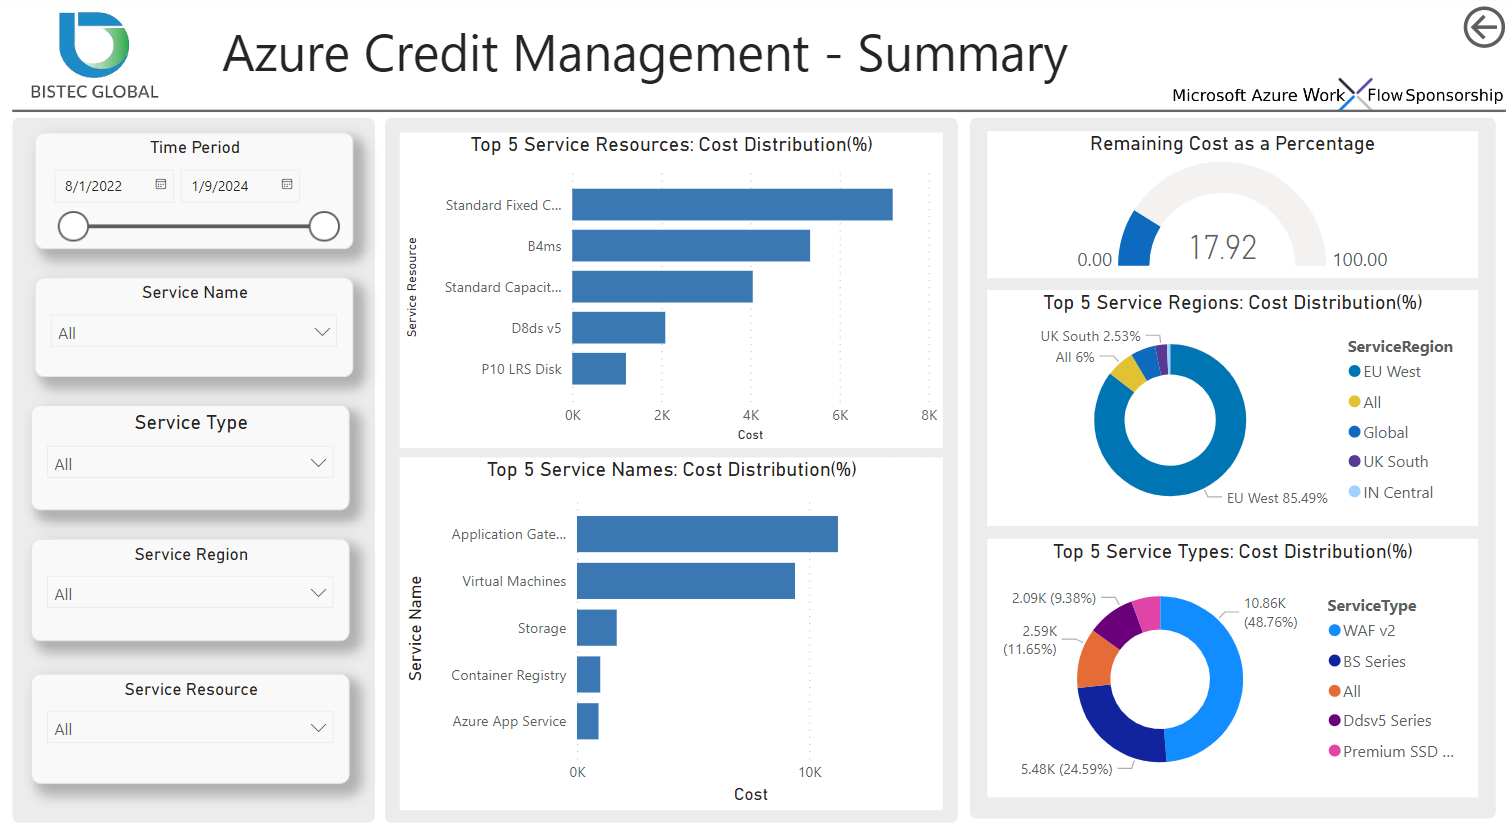

The dashboard page shown, as its layout file describes it:
{"tool":"powerbi","page":{"name":"Summary","canvas":[1280,720],"ordinal":1},"visuals":[{"type":"shape","box":[9.6,99.7,306.2,595.6],"z":0},{"type":"shape","box":[324.2,99.7,483.9,595.6],"z":1000},{"type":"shape","box":[817.7,99.7,444.3,592],"z":2000},{"type":"slicer","title":"Service Name","fields":{"Values":["AzureUsage_Workxflow_10-01-2024.ServiceName"]},"box":[28.8,234.1,269,84.1],"z":3000},{"type":"slicer","title":"Service Region","fields":{"Values":["AzureUsage_Workxflow_10-01-2024.ServiceRegion"]},"box":[25.2,455.1,269,86.5],"z":4000},{"type":"slicer","title":"Service Resource","fields":{"Values":["AzureUsage_Workxflow_10-01-2024.ServiceResource"]},"box":[25.2,569.2,269,92.5],"z":5000},{"type":"slicer","title":"Service Type","fields":{"Values":["AzureUsage_Workxflow_10-01-2024.ServiceType"]},"box":[25.2,342.2,269,88.9],"z":6000},{"type":"textbox","box":[181.3,8.4,772.1,91.3],"z":8000},{"type":"image","box":[9.6,1.2,139.3,98.5],"z":9000},{"type":"gauge","title":"Remaining Cost as a Percentage","fields":{"MaxValue":["AzureUsage_Workxflow_10-01-2024.Total_percentage"],"Y":["AzureUsage_Workxflow_10-01-2024.Remaining Cost Percentage"]},"box":[832.1,110.5,414.3,123.7],"z":11000},{"type":"clusteredBarChart","title":"Top 5 Service Names: Cost Distribution(%)","fields":{"Category":["AzureUsage_Workxflow_10-01-2024.ServiceName"],"Y":["Sum(AzureUsage_Workxflow_10-01-2024.Cost)"]},"box":[336.2,386.6,458.7,297.8],"z":12000},{"type":"donutChart","title":"Top 5 Service Regions: Cost Distribution(%)","fields":{"Category":["AzureUsage_Workxflow_10-01-2024.ServiceRegion"],"Y":["Sum(AzureUsage_Workxflow_10-01-2024.Cost)"]},"box":[832.1,245,414.3,199.3],"z":13000},{"type":"clusteredBarChart","title":"Top 5 Service Resources: Cost Distribution(%)","fields":{"Category":["AzureUsage_Workxflow_10-01-2024.ServiceResource"],"Y":["Sum(AzureUsage_Workxflow_10-01-2024.Cost)"]},"box":[336.2,111.7,458.7,266.6],"z":14000},{"type":"donutChart","title":"Top 5 Service Types: Cost Distribution(%)","fields":{"Category":["AzureUsage_Workxflow_10-01-2024.ServiceType"],"Y":["Sum(AzureUsage_Workxflow_10-01-2024.Cost)"]},"box":[832.1,455.1,414.3,218.5],"z":15000},{"type":"slicer","title":"Time Period","fields":{"Values":["AzureUsage_Workxflow_10-01-2024.Date"]},"box":[28.8,111.7,269,98.5],"z":16000},{"type":"image","box":[979.8,54,300.2,57.6],"z":16002,"group":"g1"},{"type":"shape","box":[9.6,87.6,1260.8,12],"z":16003,"group":"g1"},{"type":"group","id":"g1","title":"Group 1","box":[9.6,54,1270.4,57.6],"z":16004},{"type":"actionButton","box":[1228.9,0,50.7,45.8],"z":16005}]}

Visuals, with their boxes in screenshot pixels (x1, y1, x2, y2), scaled from the page's 1280x720 canvas onto the 1512x832 screenshot:
shape: [left=11, top=115, right=373, bottom=803]
shape: [left=383, top=115, right=955, bottom=803]
shape: [left=966, top=115, right=1491, bottom=799]
"Service Name" slicer: [left=34, top=271, right=352, bottom=368]
"Service Region" slicer: [left=30, top=526, right=348, bottom=626]
"Service Resource" slicer: [left=30, top=658, right=348, bottom=765]
"Service Type" slicer: [left=30, top=395, right=348, bottom=498]
textbox: [left=214, top=10, right=1126, bottom=115]
image: [left=11, top=1, right=176, bottom=115]
"Remaining Cost as a Percentage" gauge: [left=983, top=128, right=1472, bottom=271]
"Top 5 Service Names: Cost Distribution(%)" clusteredBarChart: [left=397, top=447, right=939, bottom=791]
"Top 5 Service Regions: Cost Distribution(%)" donutChart: [left=983, top=283, right=1472, bottom=513]
"Top 5 Service Resources: Cost Distribution(%)" clusteredBarChart: [left=397, top=129, right=939, bottom=437]
"Top 5 Service Types: Cost Distribution(%)" donutChart: [left=983, top=526, right=1472, bottom=778]
"Time Period" slicer: [left=34, top=129, right=352, bottom=243]
image: [left=1157, top=62, right=1511, bottom=129]
shape: [left=11, top=101, right=1501, bottom=115]
"Group 1" group: [left=11, top=62, right=1511, bottom=129]
actionButton: [left=1452, top=0, right=1511, bottom=53]
